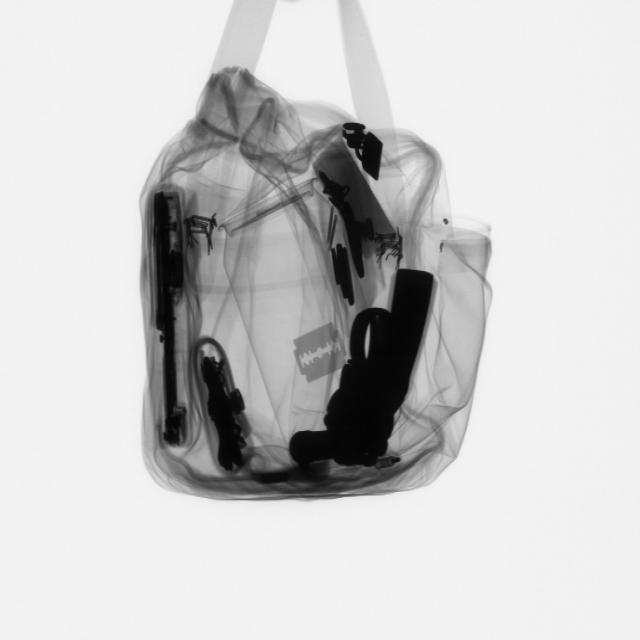BLADE: (289, 316, 348, 389)
GUN: (287, 267, 444, 476)
